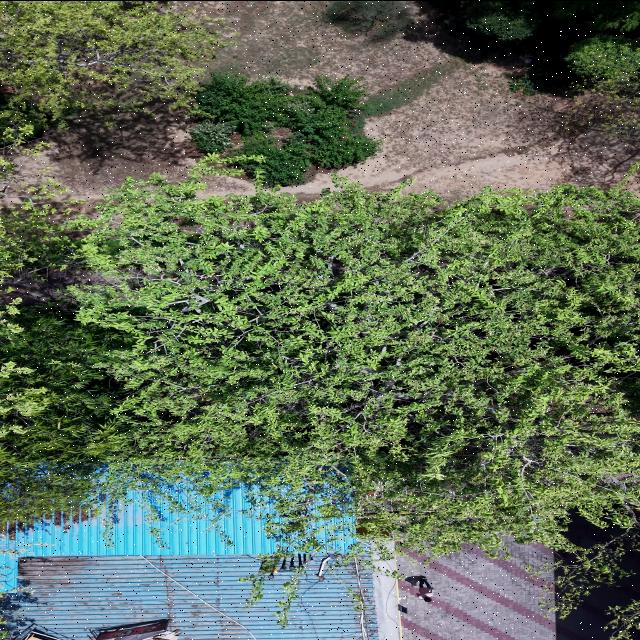DRY_AREA: (175, 1, 639, 200), (176, 1, 637, 200), (215, 1, 637, 199), (338, 65, 636, 199), (338, 70, 636, 198), (175, 1, 448, 93), (397, 543, 637, 639), (16, 105, 194, 211), (397, 544, 556, 639)
ROOFTOP_BUILDING: (2, 490, 609, 639), (3, 490, 392, 639), (10, 555, 377, 639), (6, 489, 276, 555)
VEGETATION_TREE: (0, 177, 639, 612), (2, 178, 638, 613), (3, 180, 638, 553), (71, 180, 638, 554), (0, 1, 377, 185), (0, 1, 377, 184), (0, 195, 136, 528), (0, 1, 232, 194), (0, 304, 144, 523), (431, 1, 639, 133), (0, 1, 225, 119), (192, 74, 378, 185), (422, 1, 639, 95), (549, 1, 639, 135), (532, 527, 639, 618), (0, 184, 75, 293), (565, 35, 639, 136), (0, 93, 53, 162), (323, 1, 412, 41), (566, 35, 639, 83), (464, 1, 541, 40), (549, 1, 639, 31), (552, 1, 639, 31), (191, 121, 237, 153), (605, 602, 639, 639)
